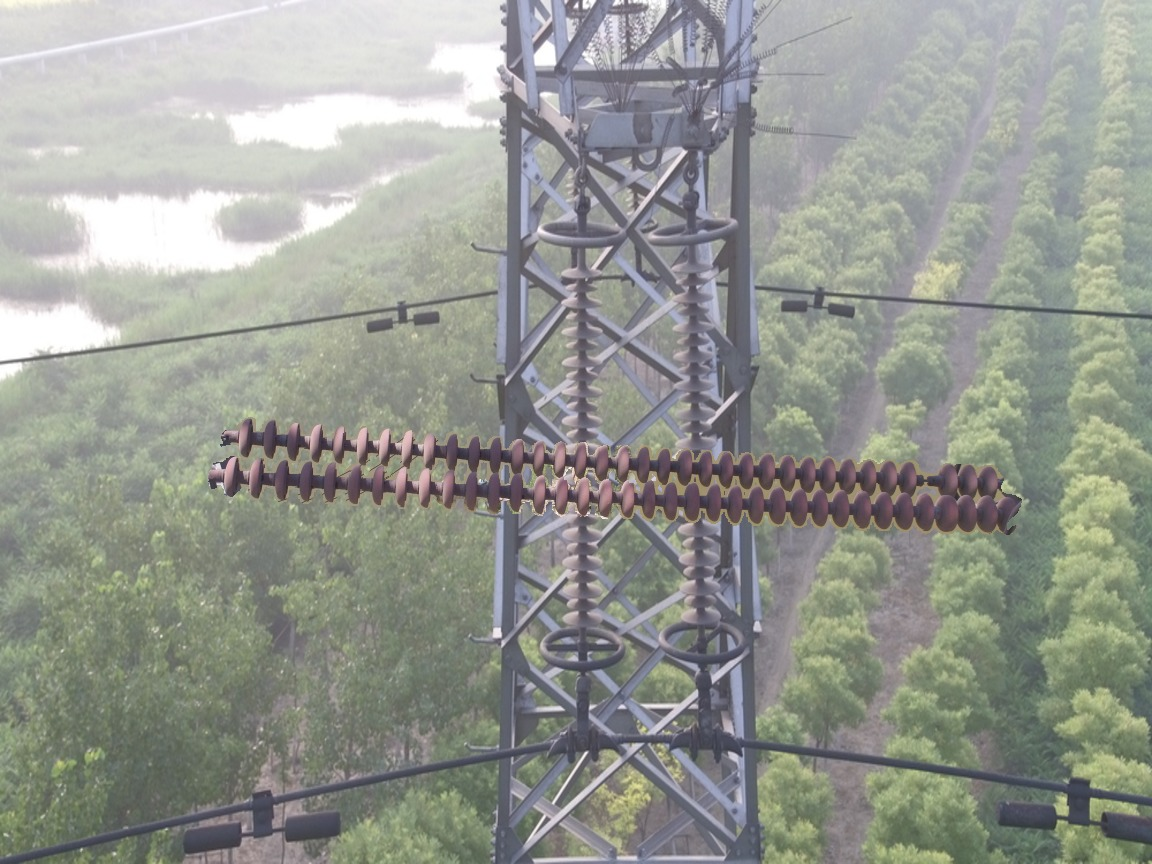defect: (898, 459, 960, 499)
